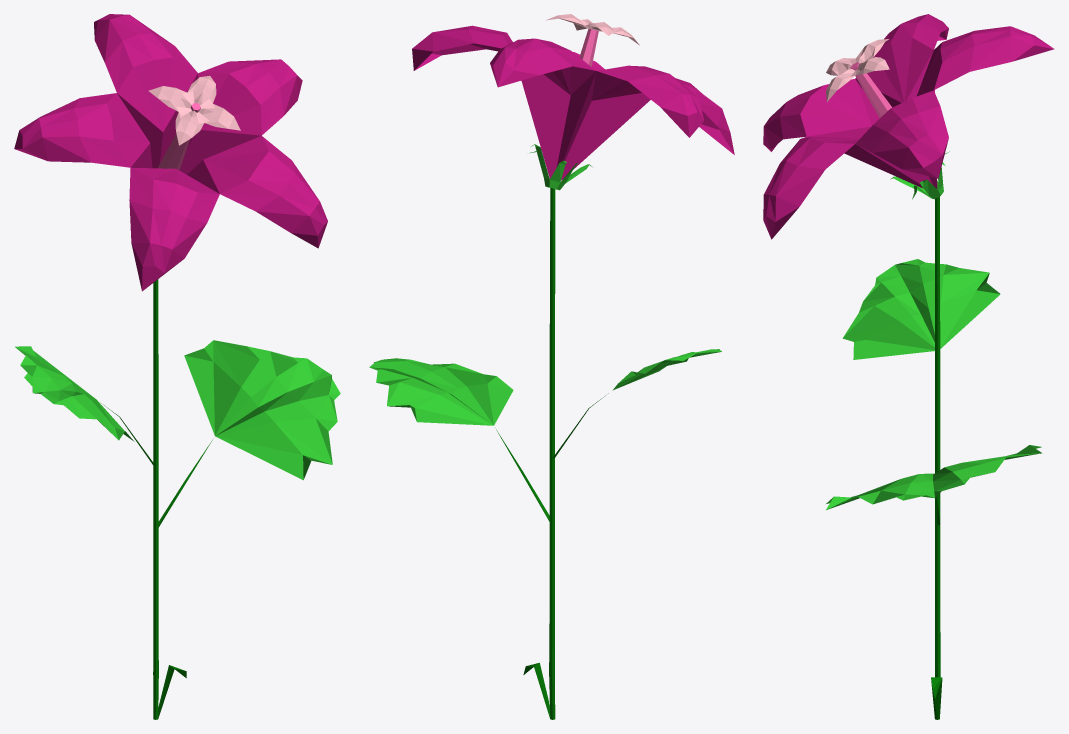
Rendered from flower.fbx.
3 views of the same model, side by side, from view 1: azimuth 30°, elevation 25°; view 2: azimuth 150°, elevation 25°; view 3: azimuth 270°, elevation 25° (orthographic). The views are drawn at different scales.
Visible parts, largest first — view 1: petals1, leaf2, Group1, leaf1, innner1, stem1; view 2: petals1, leaf2, Group1, leaf1, joint1, innner1; view 3: petals1, leaf1, leaf2, Group1, innner1, stem1, joint1.
Part boxes in pixels (<box>): petals1: <box>14,14,327,291</box>; leaf2: <box>184,340,340,480</box>; Group1: <box>101,279,212,719</box>; leaf1: <box>15,346,134,441</box>; innner1: <box>148,75,240,145</box>; stem1: <box>158,103,200,170</box>; petals1: <box>412,25,734,180</box>; leaf2: <box>369,358,513,425</box>; Group1: <box>496,188,608,719</box>; leaf1: <box>612,349,721,390</box>; joint1: <box>529,144,592,190</box>; innner1: <box>546,14,639,45</box>; petals1: <box>763,14,1054,239</box>; leaf1: <box>842,259,1000,359</box>; leaf2: <box>826,445,1042,509</box>; Group1: <box>931,196,942,719</box>; innner1: <box>826,39,889,101</box>; stem1: <box>850,62,891,118</box>; joint1: <box>890,151,949,199</box>.
Size of the model in its own units: 0.2188 by 0.4434 by 0.1702.
